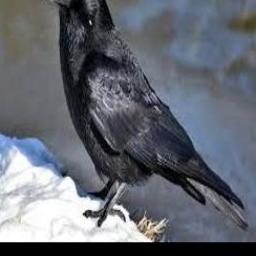Crow: (41, 0, 250, 232)
